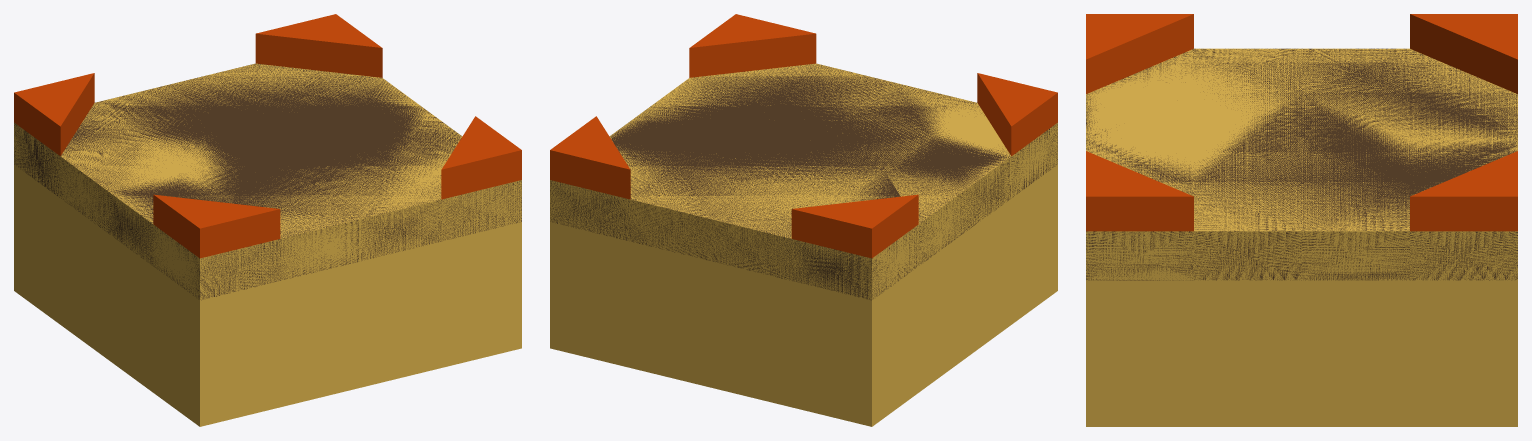
Rendered from initial.fbx.
3 views of the same model, side by side, from view 1: azimuth 30°, elevation 25°; view 2: azimuth 150°, elevation 25°; view 3: azimuth 270°, elevation 25° (orthographic). The views are drawn at different scales.
Visible parts, largest first — view 1: Land, Roof, Terrace2, Bridge, Terrace1; view 2: Land, Roof, Bridge, Terrace2, Terrace1; view 3: Land, Roof, Bridge, Terrace1, Terrace2.
Boxes of the visible parts, x1=… form: Land: x1=14, y1=63, x2=521, y2=426; Roof: x1=14, y1=64, x2=521, y2=300; Terrace2: x1=61, y1=64, x2=436, y2=237; Bridge: x1=14, y1=14, x2=521, y2=258; Terrace1: x1=142, y1=97, x2=394, y2=203; Land: x1=550, y1=63, x2=1057, y2=426; Roof: x1=550, y1=63, x2=1057, y2=300; Bridge: x1=550, y1=14, x2=1057, y2=258; Terrace2: x1=620, y1=65, x2=1008, y2=237; Terrace1: x1=677, y1=98, x2=930, y2=203; Land: x1=1086, y1=48, x2=1517, y2=426; Roof: x1=1086, y1=48, x2=1517, y2=280; Bridge: x1=1086, y1=14, x2=1517, y2=231; Terrace1: x1=1194, y1=94, x2=1409, y2=185; Terrace2: x1=1086, y1=48, x2=1517, y2=196.
Size of the model in its own units: 200 by 118 by 200.
